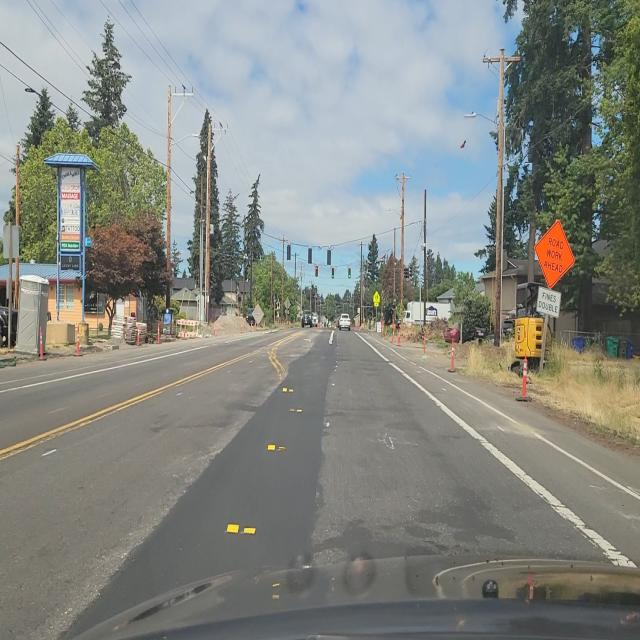car: (1, 305, 18, 346), (339, 313, 351, 331), (301, 309, 312, 328), (311, 313, 319, 328)
crosswalk-sign: (373, 292, 380, 329), (274, 299, 280, 311), (373, 294, 378, 307)
delineator: (515, 355, 529, 402), (75, 324, 81, 357), (450, 342, 456, 372), (39, 326, 44, 358), (422, 334, 427, 358), (157, 322, 161, 344), (397, 324, 401, 344), (405, 325, 409, 343), (212, 318, 216, 336), (381, 321, 385, 338), (387, 324, 392, 337), (137, 325, 140, 346), (240, 321, 244, 332), (250, 321, 254, 332)
